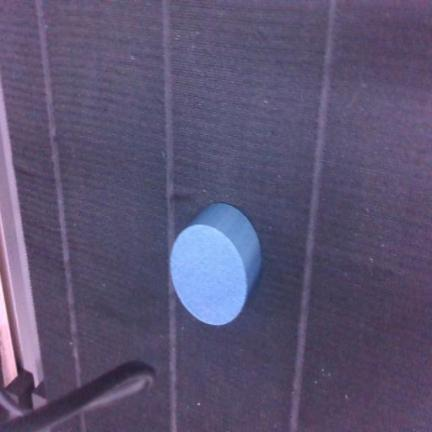cylinder: (170, 203, 261, 325)
